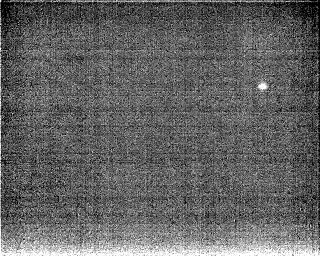AIRPLANE: (256, 80, 269, 92)
